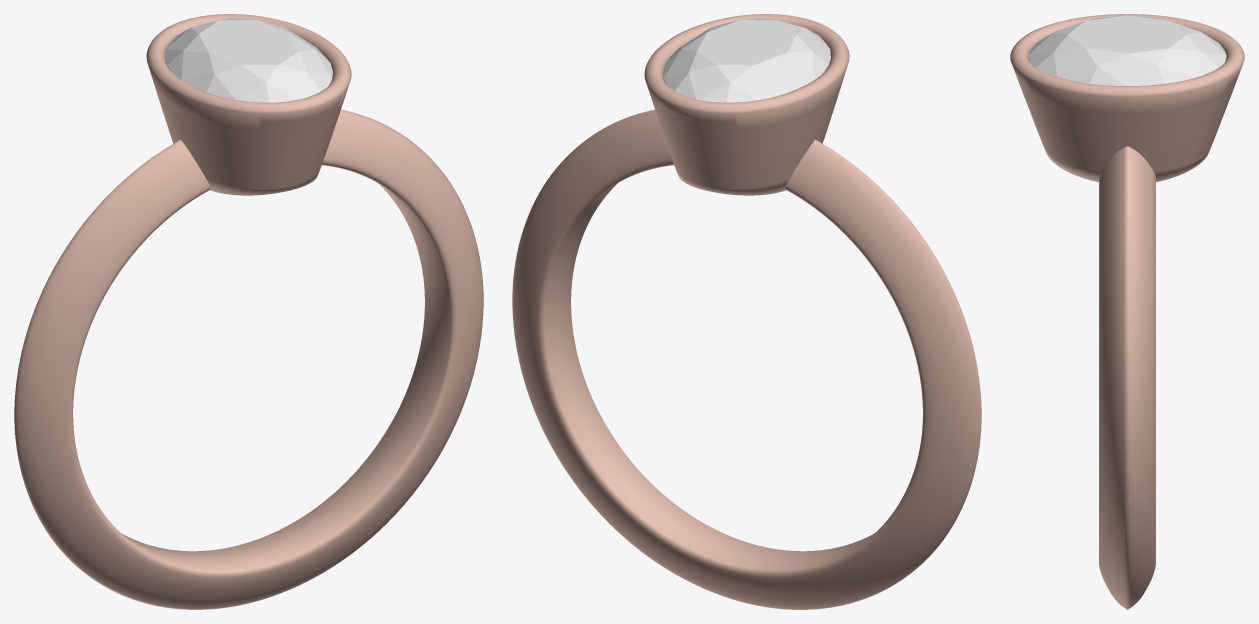
The model's file is diamond-oval-rosegold-bezelset-knifeedge-nosidestones.glb.
3 renders of one model, left to right at view 1: azimuth 30°, elevation 25°; view 2: azimuth 150°, elevation 25°; view 3: azimuth 270°, elevation 25°, orthographic.
Parts seen in each view (by area): view 1: metal, stone; view 2: metal, stone; view 3: metal, stone.
Part boxes in pixels (<box>): metal: <box>14,14,483,609</box>; stone: <box>165,17,332,102</box>; metal: <box>512,14,981,609</box>; stone: <box>663,17,830,102</box>; metal: <box>1010,14,1244,609</box>; stone: <box>1028,15,1226,85</box>.
Size of the model in its own units: 20.49 by 23.4 by 9.04.
